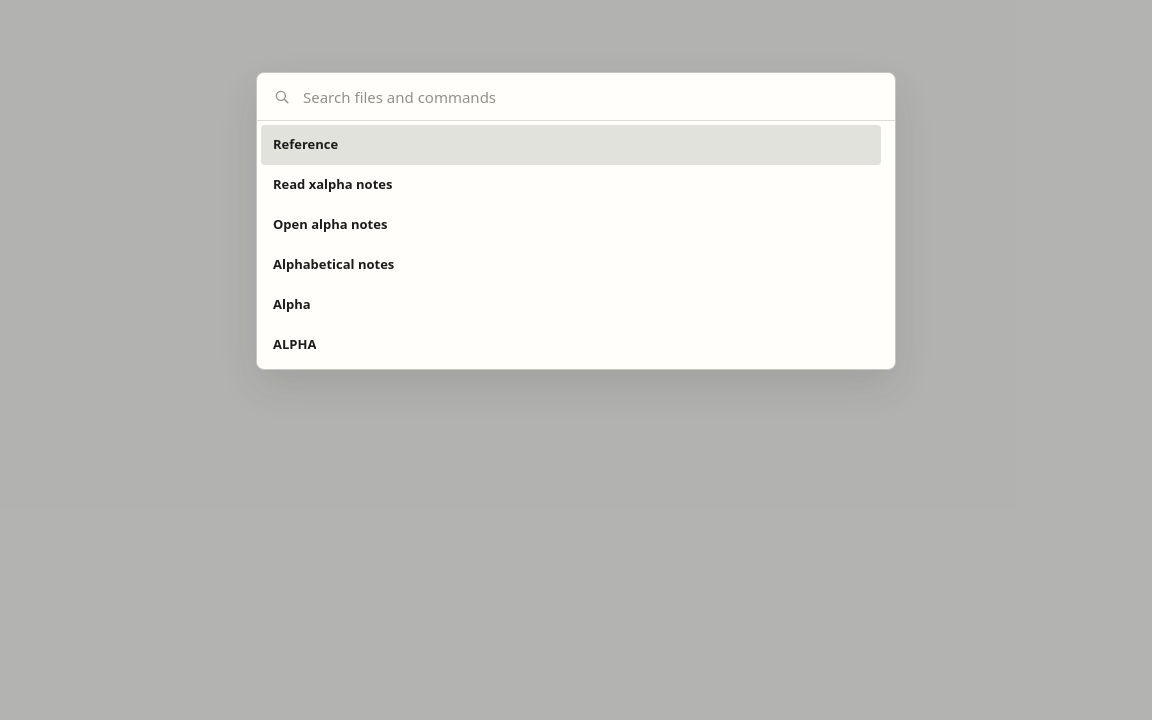
CommandPalette › returns stable bounded top matches in exact-to-path rank order
Type "alpha" into the dropdown named "Command palette" at (591, 96), box [303,74,879,120]
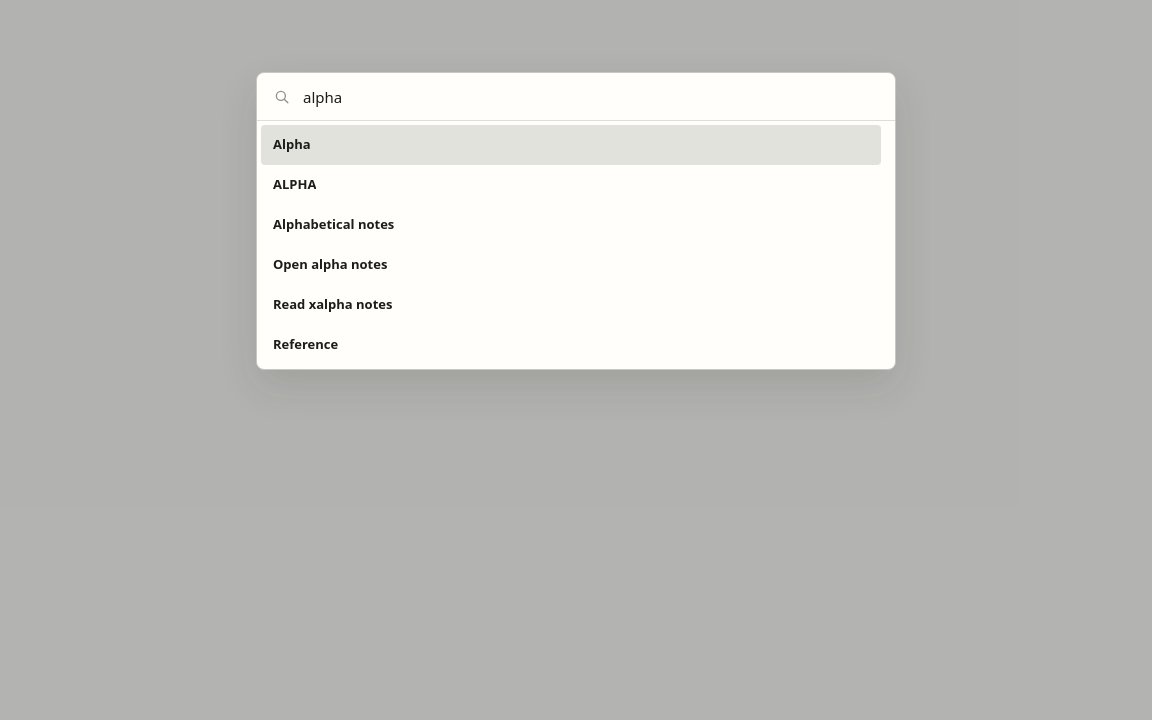
Expected: the options read "Alpha", "ALPHA", "Alphabetical notes", "Open alpha notes", "Read xalpha notes", "Reference", in this order, [261,125,881,165]; [261,165,881,205]; [261,205,881,245]; [261,245,881,285]; [261,285,881,325]; [261,325,881,365]
